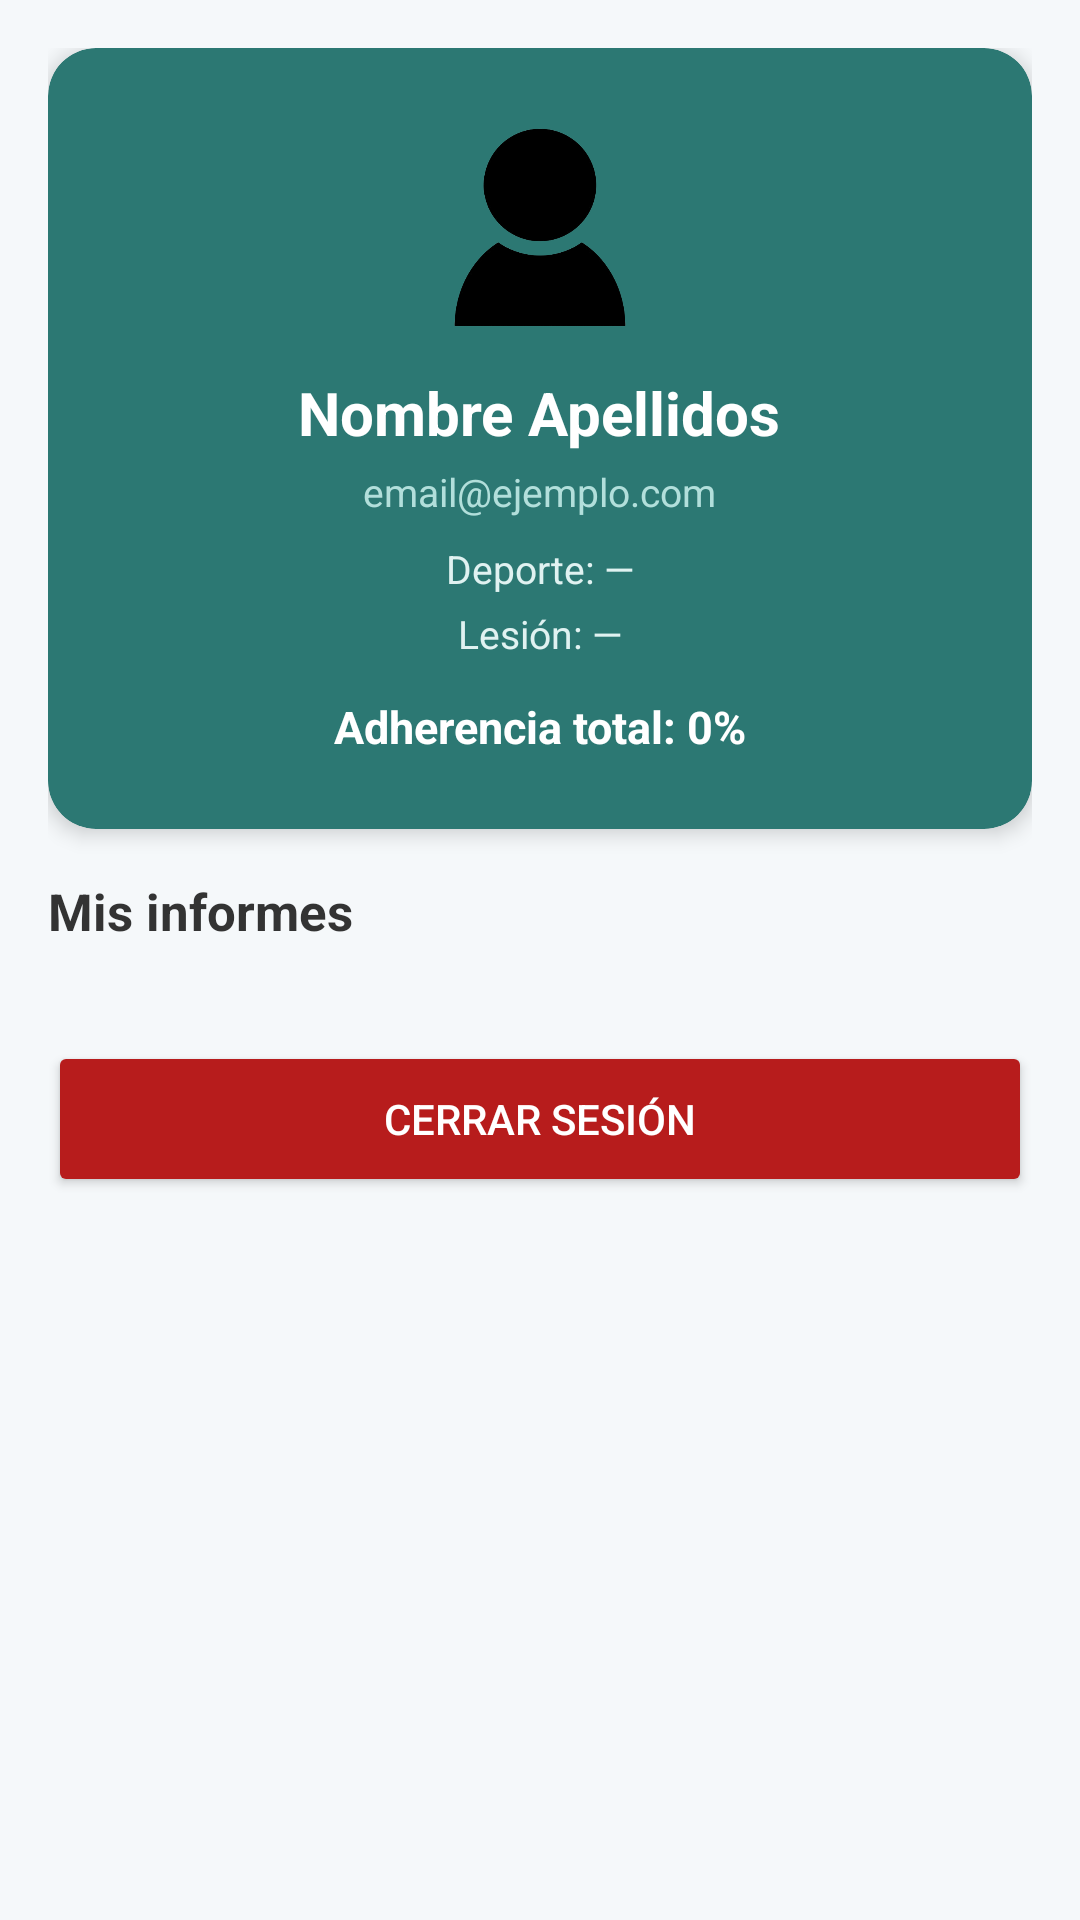

Named icons in this screenshot (1080 x 1920) and their bounding boxes, box=[x1, y1, x2, y2]:
Icono usuario: box=[454, 129, 626, 326]
